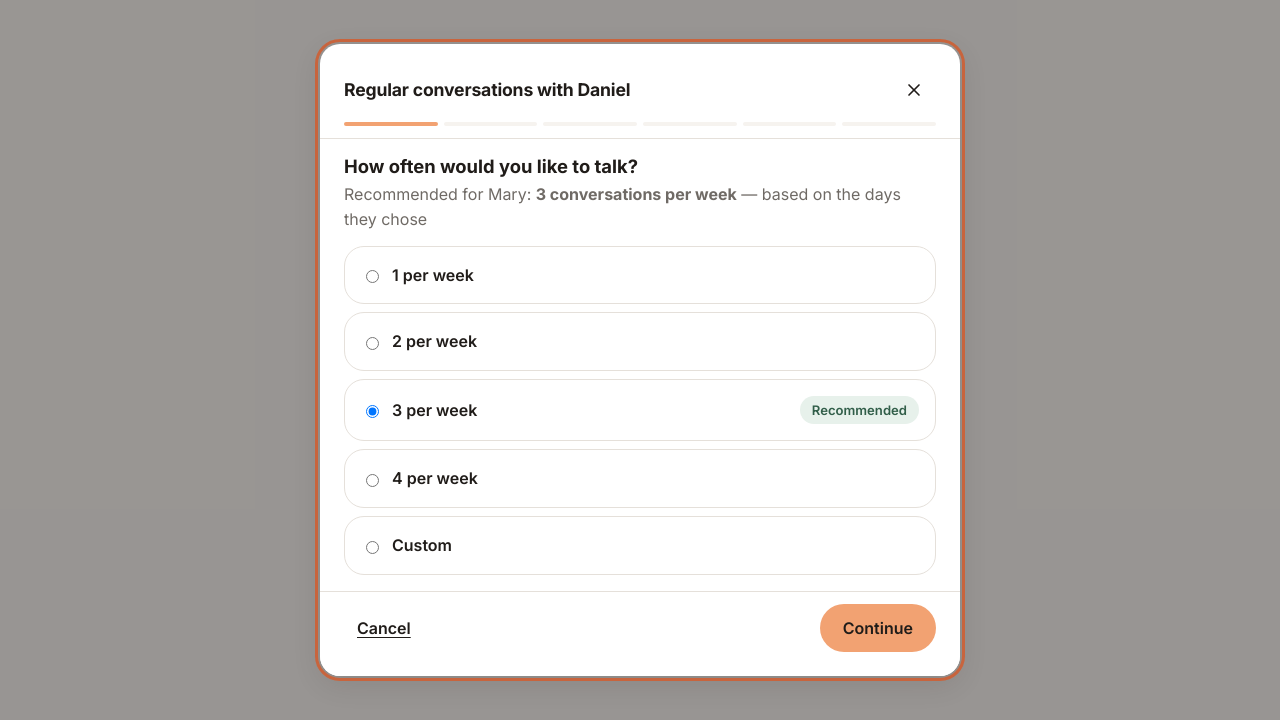
Scenario: recurring schedule stages › 13. frequency 1 creates exactly one stage
Check: the heading "How often would you like to talk?" is shown, box [344, 155, 638, 177]
Click the radio button labelled "1 per week".
click(372, 276)  # box [366, 270, 379, 283]
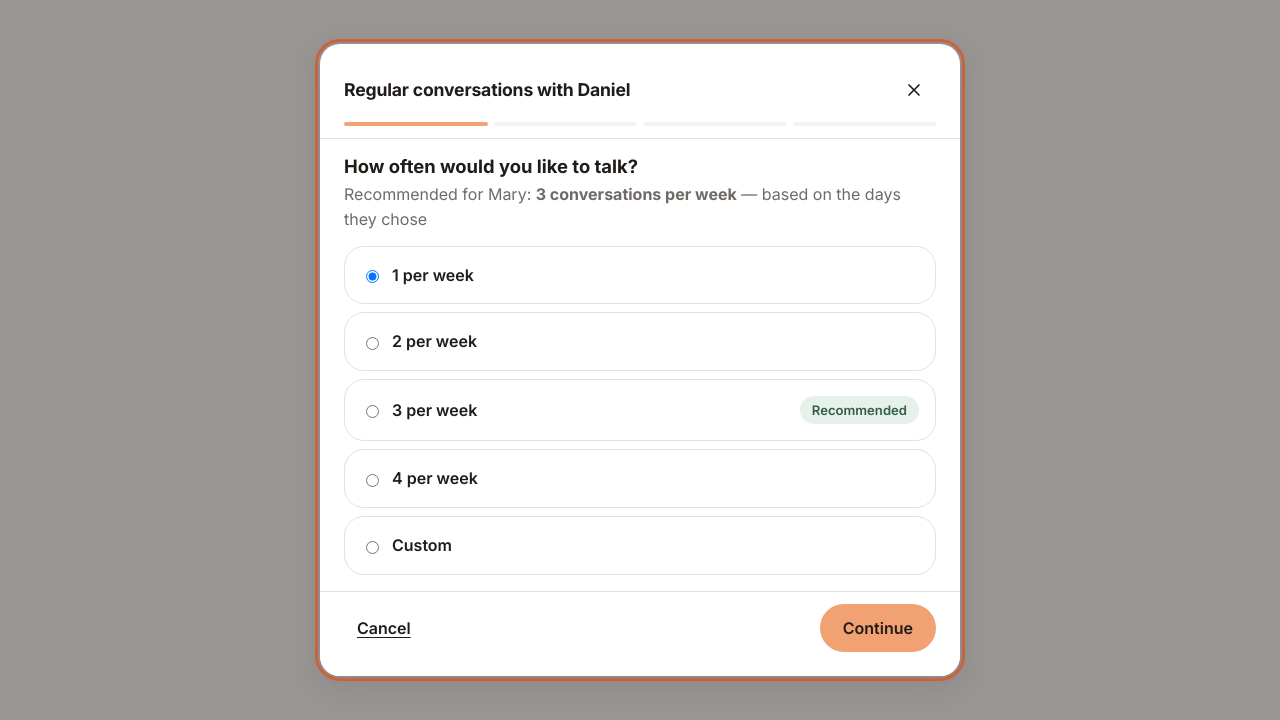
Click the button "Continue".
click(878, 628)  # box [820, 604, 936, 652]
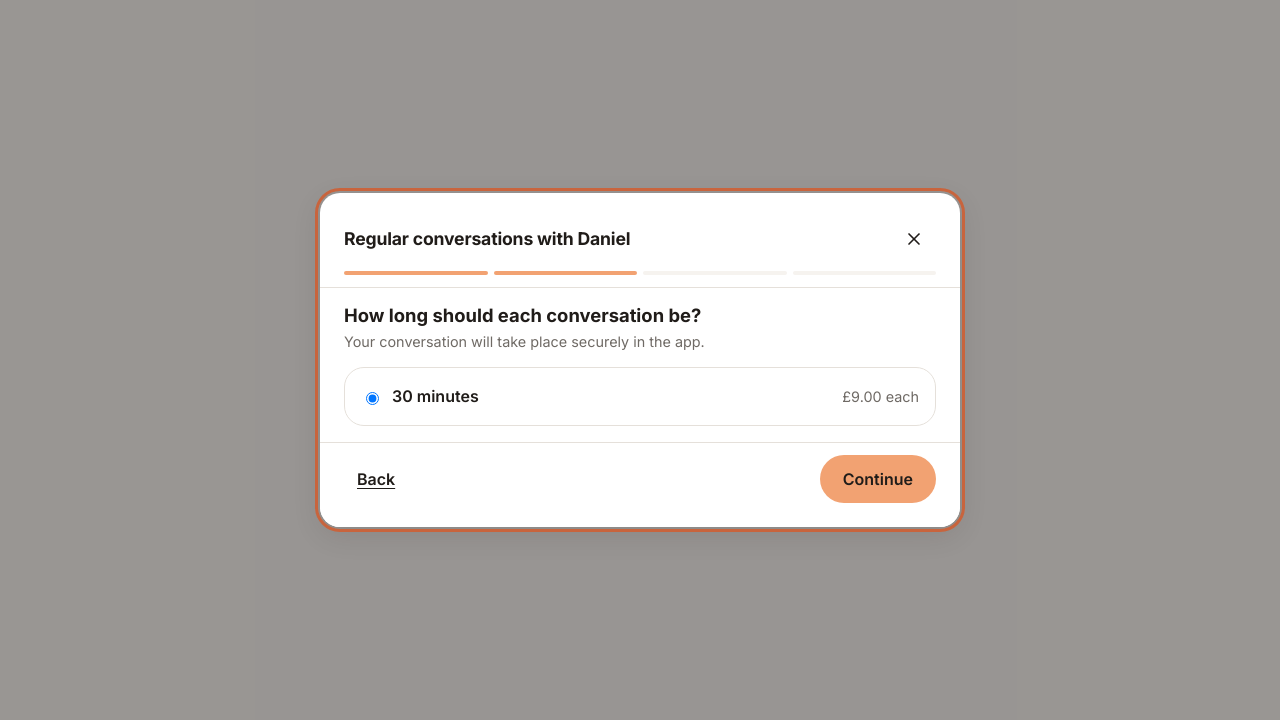
Click the button "Continue".
click(878, 479)  # box [820, 455, 936, 503]
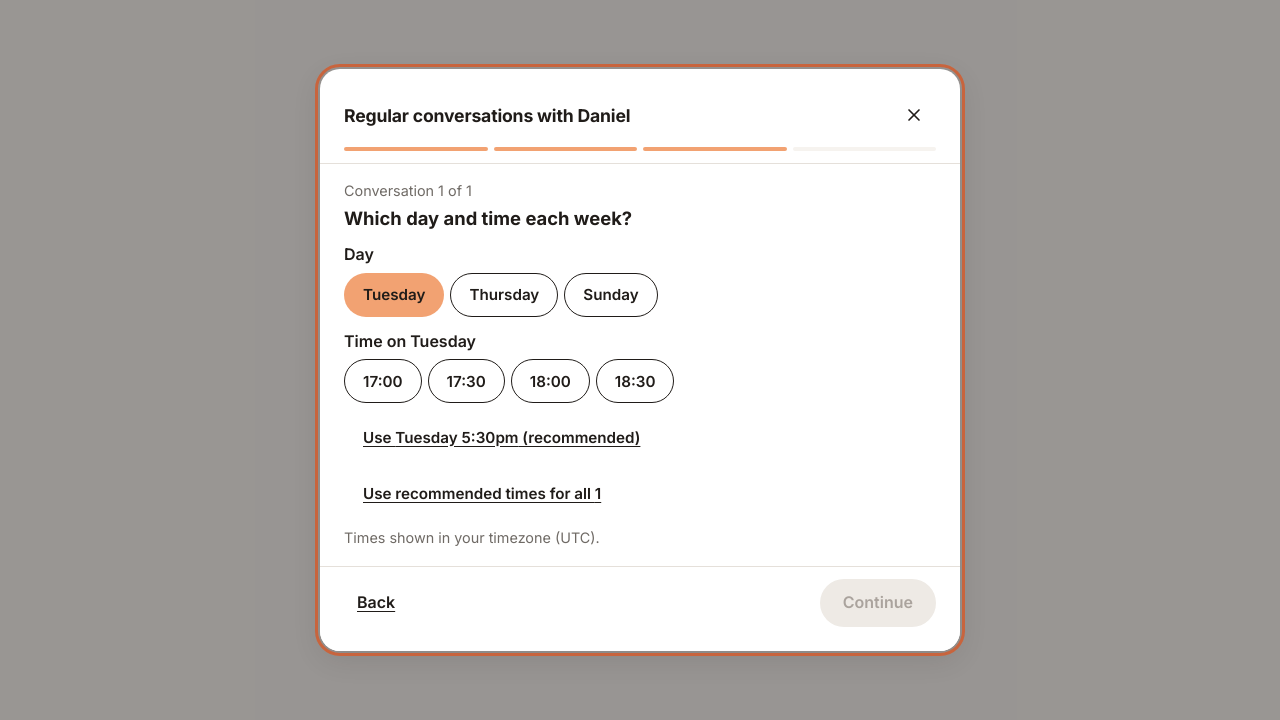
Check: the text "Conversation 1 of 1" is shown, box [344, 182, 472, 199]
Click the button named "Tuesday 17:00".
click(383, 381)  # box [344, 359, 422, 403]
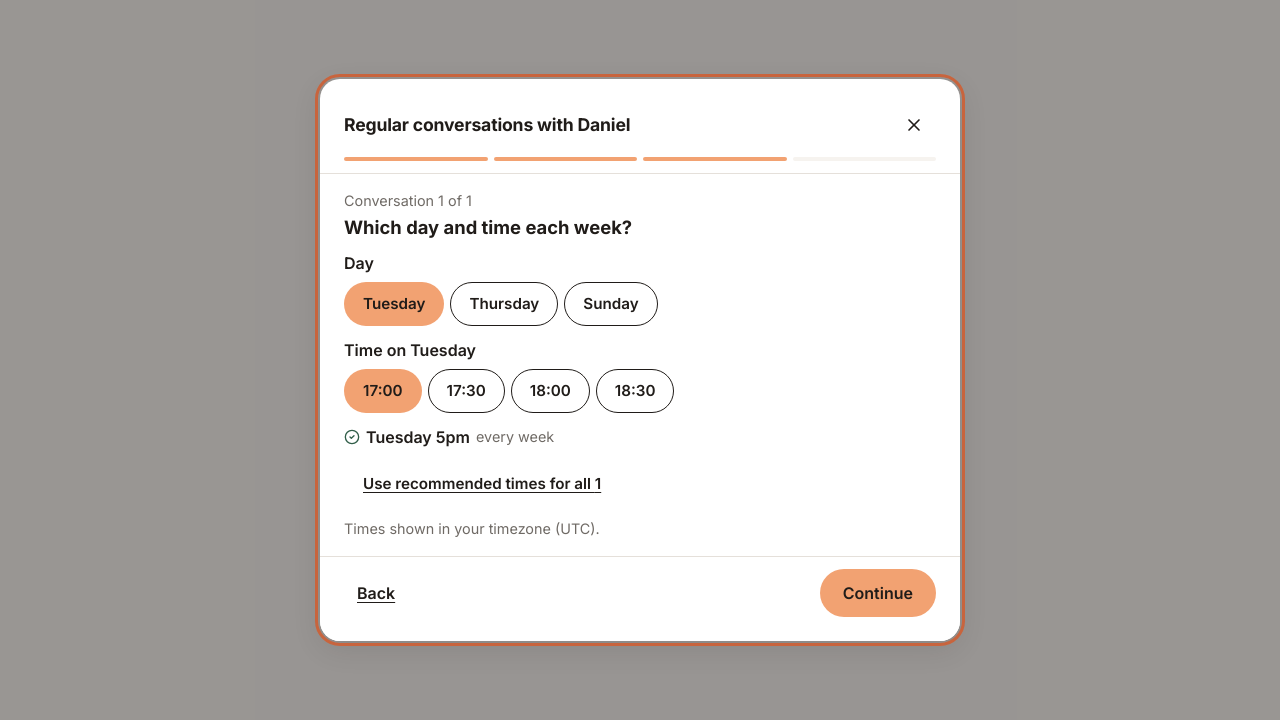
Click the button "Continue".
click(878, 593)  # box [820, 569, 936, 617]
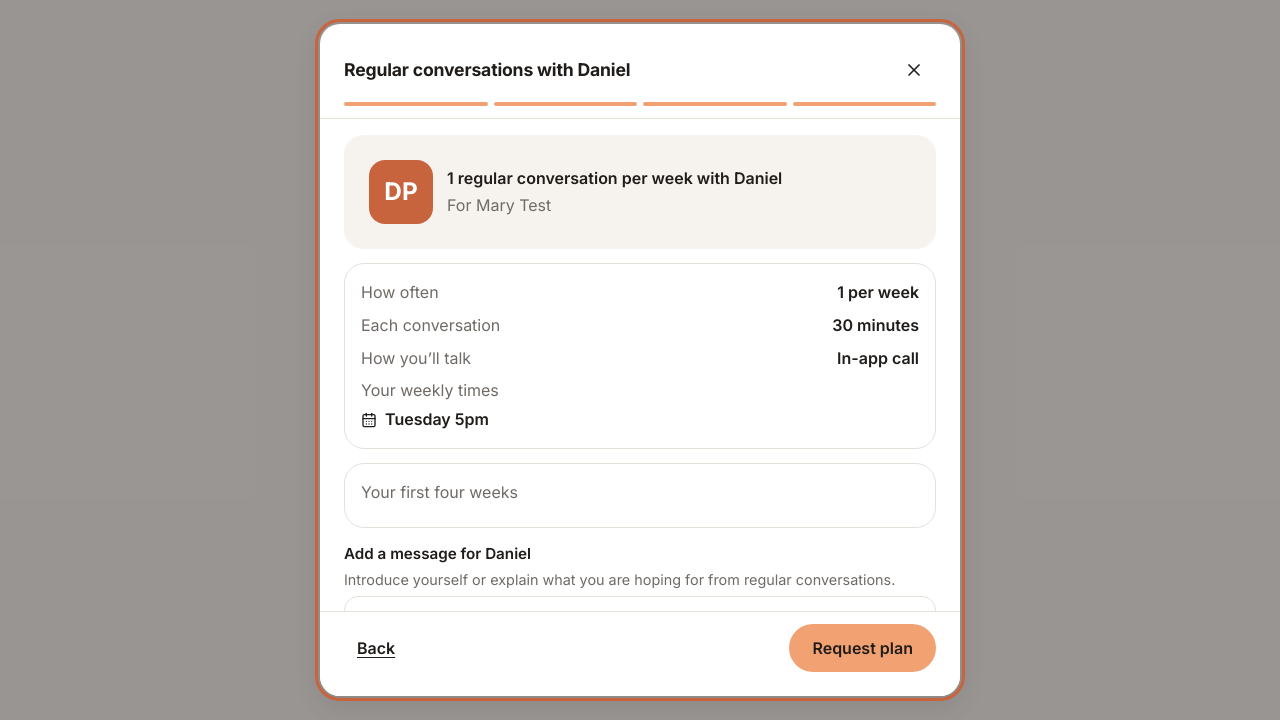
Check: the text "Your first four weeks" is shown, box [361, 482, 518, 502]
